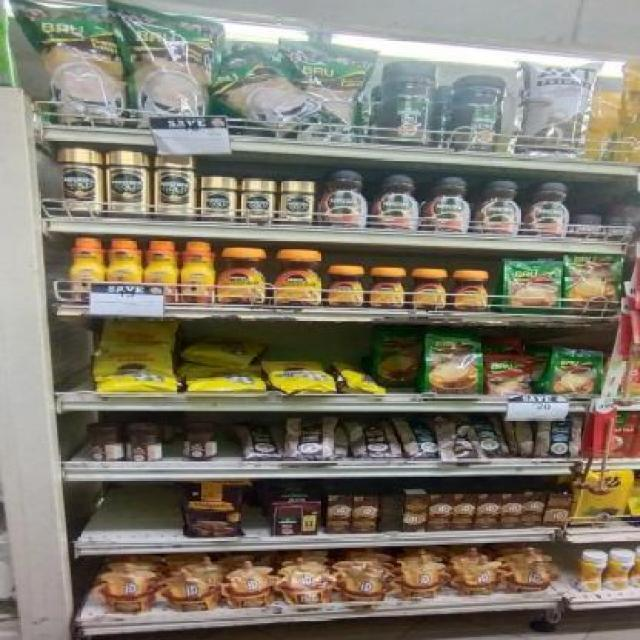Coffee: (102, 150, 151, 219), (58, 148, 105, 218), (154, 152, 197, 221), (273, 249, 322, 306), (217, 248, 266, 304), (320, 169, 367, 226), (371, 174, 418, 228), (476, 178, 520, 234), (425, 175, 469, 230), (527, 181, 567, 238), (71, 238, 104, 300), (182, 243, 214, 304), (369, 268, 408, 310), (452, 270, 491, 311), (107, 240, 143, 283), (201, 178, 236, 222), (145, 240, 178, 286), (278, 180, 312, 224), (328, 266, 362, 308), (412, 268, 446, 308), (242, 179, 274, 220), (602, 216, 634, 240), (571, 214, 598, 237)
